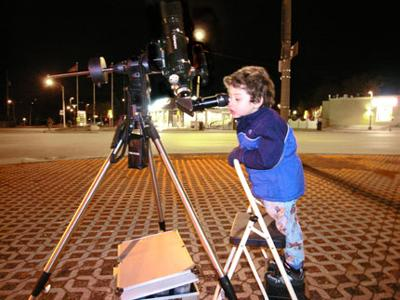person: (226, 66, 308, 286)
